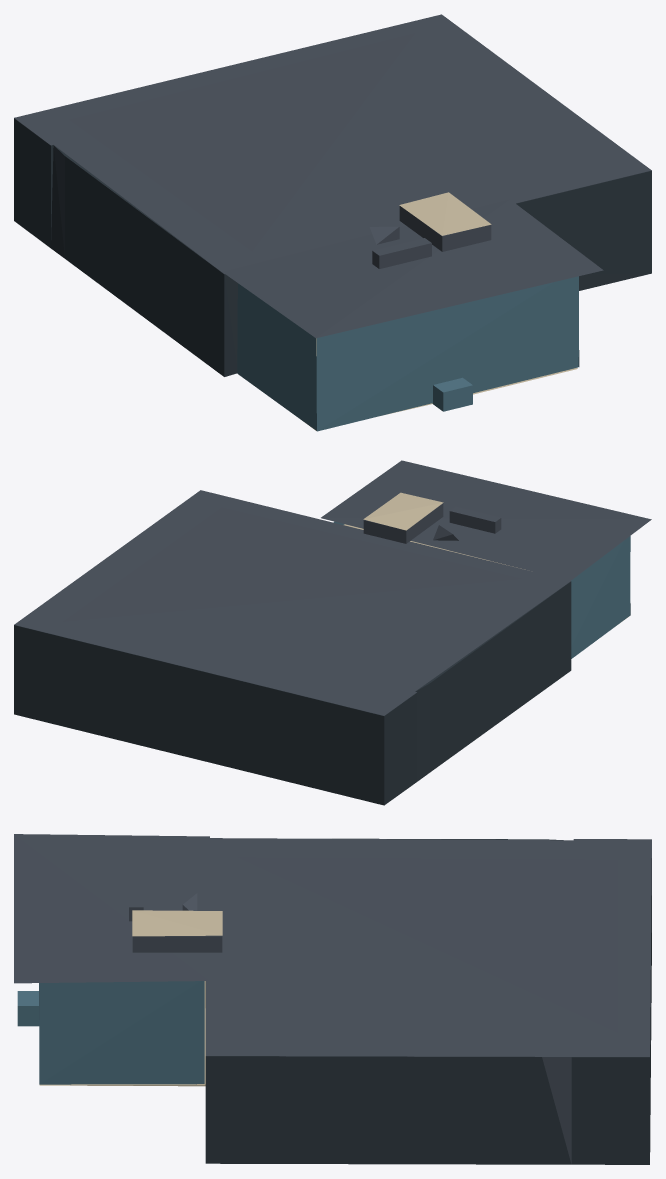
Rendered from theater-amsterdam.lod2.glb.
3 renders of one model, top to bottom at view 1: azimuth 30°, elevation 25°; view 2: azimuth 150°, elevation 25°; view 3: azimuth 270°, elevation 25°, orthographic. The views are drawn at different scales.
Parts seen in each view (by area): view 1: lod2; view 2: lod2; view 3: lod2.
Boxes of the visible parts, left/top/right/bottom form: lod2: left=14, top=14, right=651, bottom=431; lod2: left=14, top=460, right=651, bottom=805; lod2: left=14, top=834, right=651, bottom=1164.
Size of the model in its own units: 70.47 by 19.25 by 86.61.
